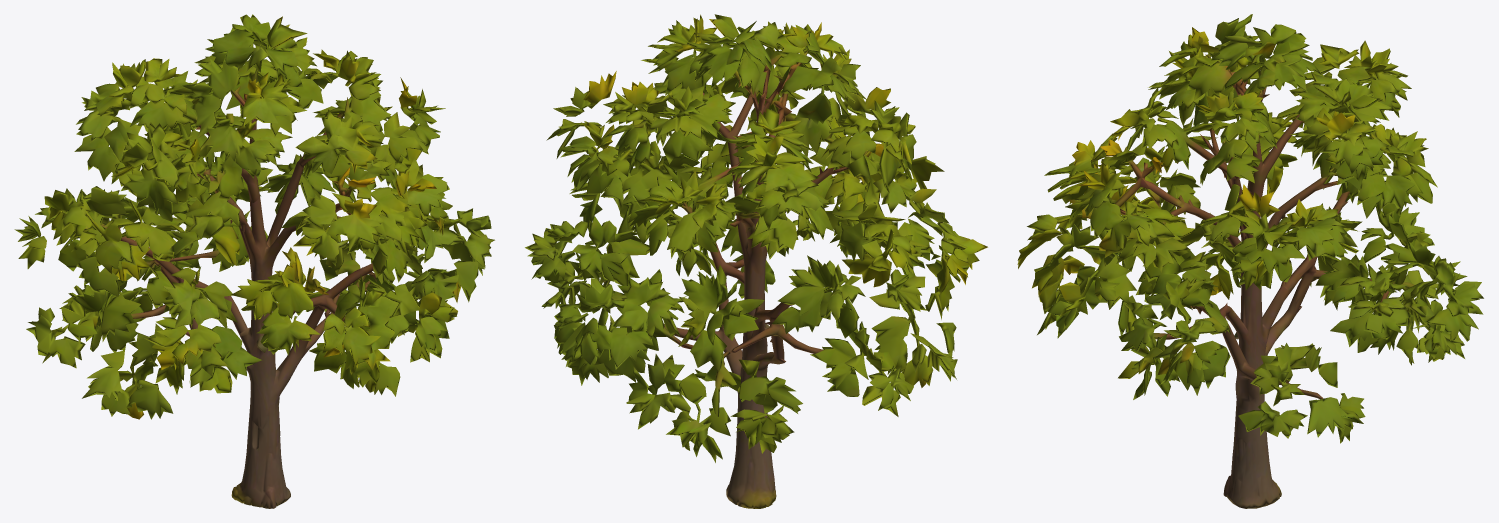
File: tree_maple.glb
3 renders of one model, left to right at view 1: azimuth 30°, elevation 25°; view 2: azimuth 150°, elevation 25°; view 3: azimuth 270°, elevation 25°, orthographic. The views are drawn at different scales.
Visible parts, largest first — view 1: tripo_node_8bdd69f3-a9f9-496a-80ae-a3fc4e73b9c2; view 2: tripo_node_8bdd69f3-a9f9-496a-80ae-a3fc4e73b9c2; view 3: tripo_node_8bdd69f3-a9f9-496a-80ae-a3fc4e73b9c2.
Boxes of the visible parts, left/top/right/bottom form: tripo_node_8bdd69f3-a9f9-496a-80ae-a3fc4e73b9c2: left=14, top=14, right=494, bottom=508; tripo_node_8bdd69f3-a9f9-496a-80ae-a3fc4e73b9c2: left=525, top=14, right=987, bottom=508; tripo_node_8bdd69f3-a9f9-496a-80ae-a3fc4e73b9c2: left=1017, top=14, right=1483, bottom=508.
Size of the model in its own units: 5.13 by 5.6 by 5.07.
Materials: 1 (1 with a texture image).
